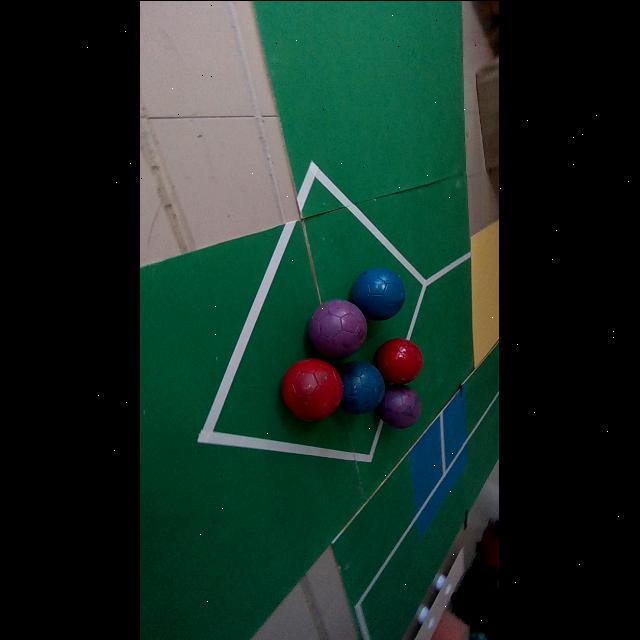B: (352, 267, 406, 320), (340, 360, 386, 413)
P: (309, 299, 368, 357), (378, 384, 423, 427)
R: (282, 357, 345, 420), (375, 337, 424, 384)
